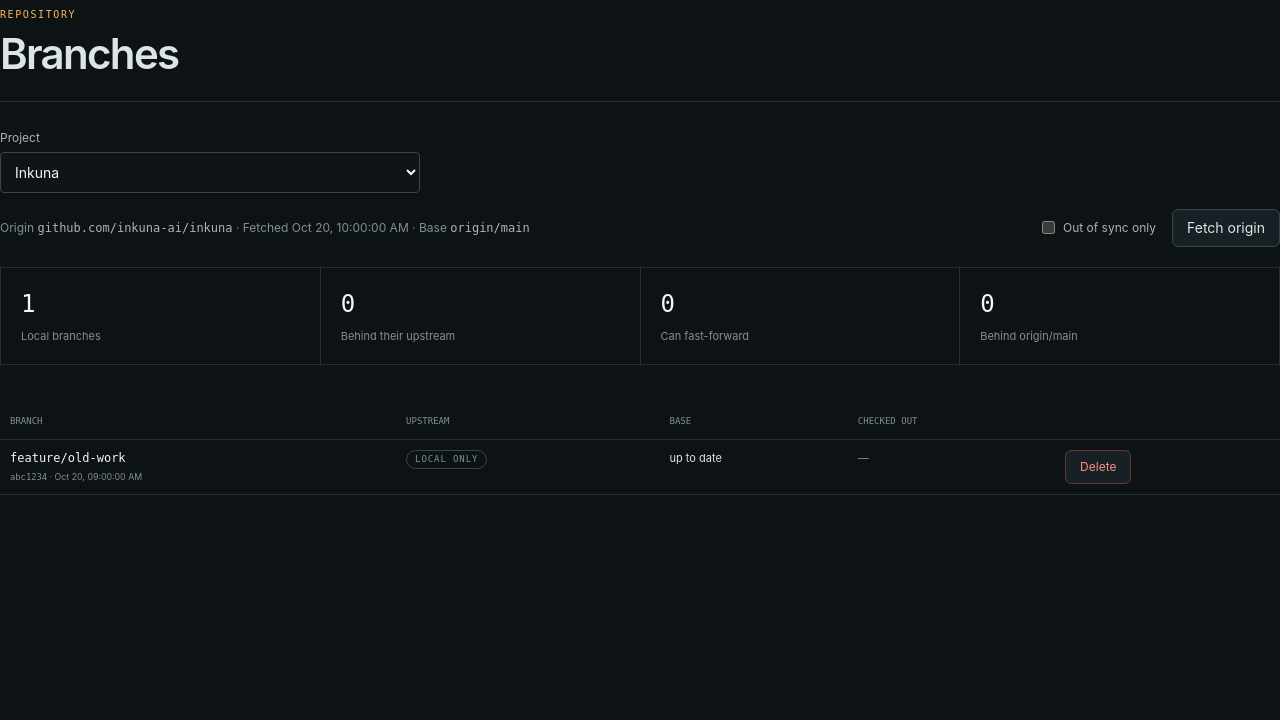
it: BranchesView › shows Go's reason when a delete is refused
Click the button with aria-label "Delete feature/old-work": click(1098, 466) [1065, 450, 1132, 484]
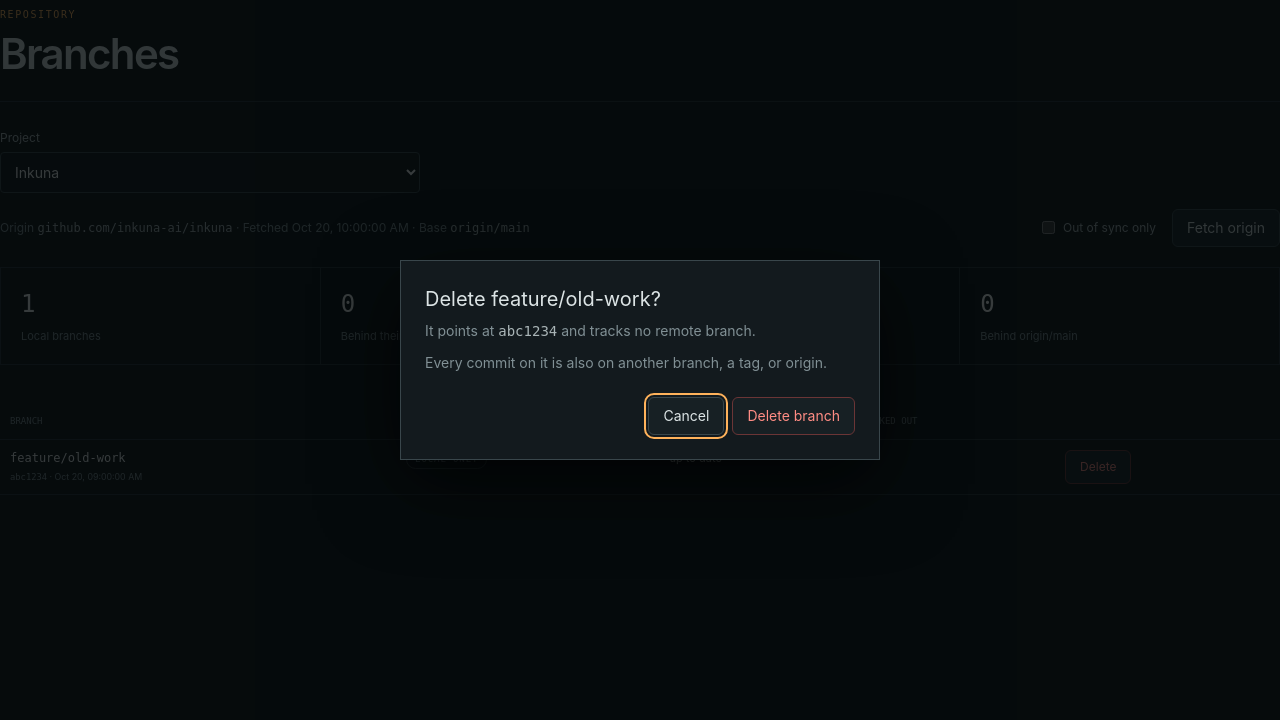
Click the button "Delete branch": click(794, 416) [732, 397, 855, 435]
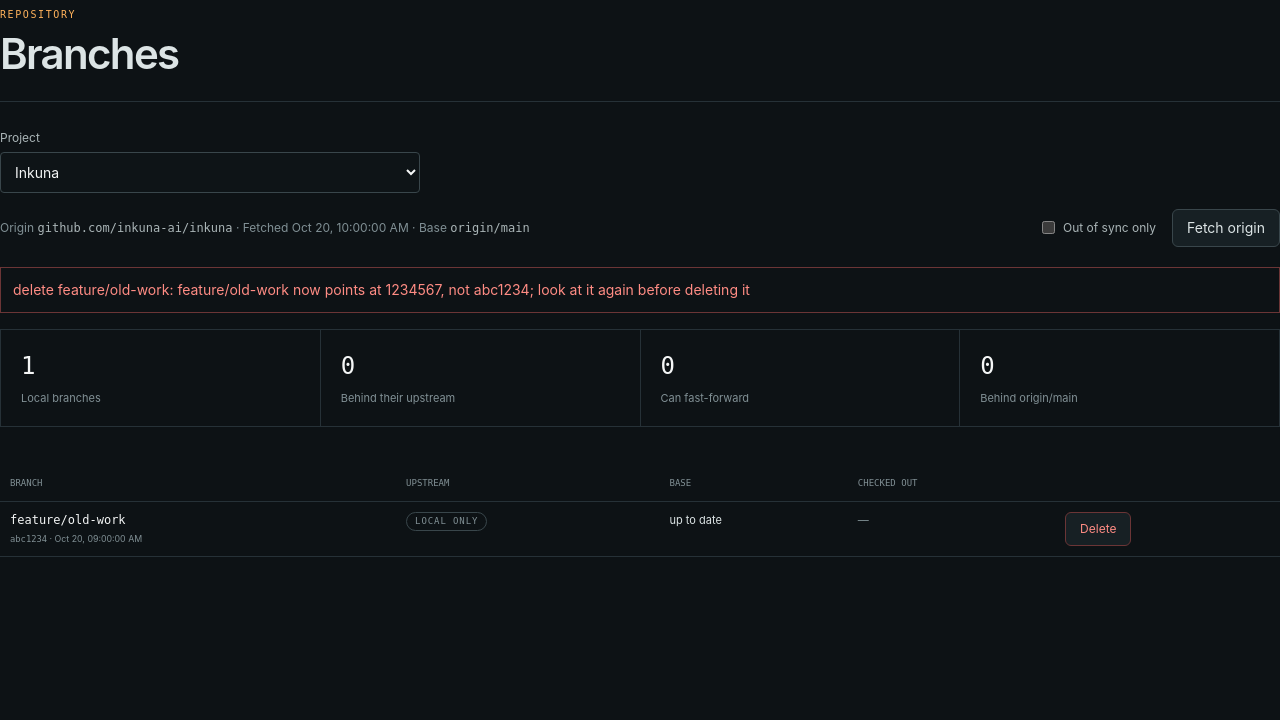
Expected: the row "feature/old-work" is shown, [0, 501, 1279, 557]
Now the message shows "look at it again before deleting it", box [13, 280, 750, 298]
